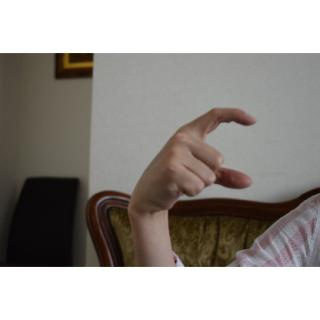DELL: (125, 104, 258, 223)
